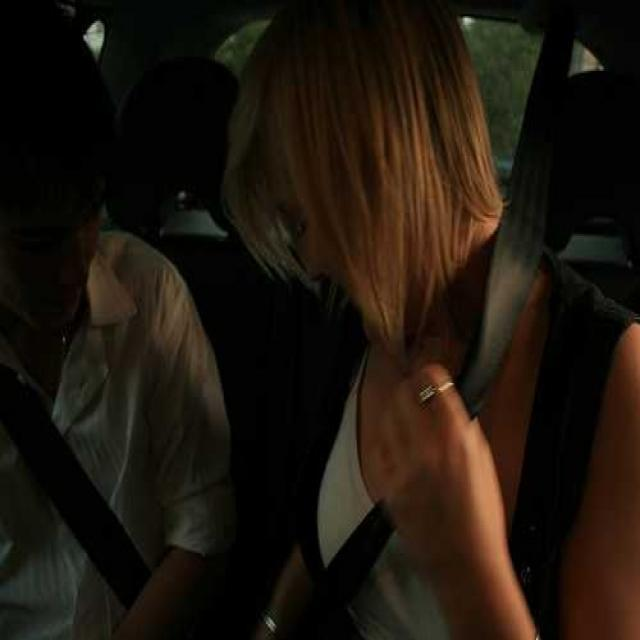seatbelt: (304, 34, 584, 633), (6, 363, 182, 640)
